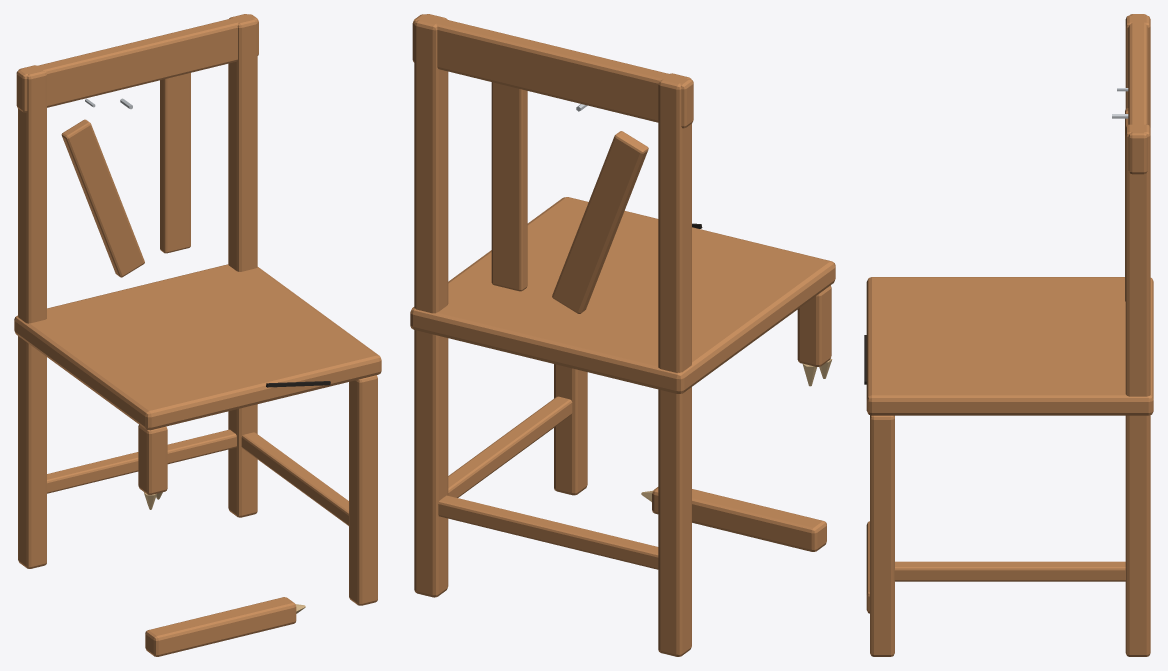
Rendered from hh_cat_broken_chair.glb.
3 renders of one model, left to right at view 1: azimuth 30°, elevation 25°; view 2: azimuth 150°, elevation 25°; view 3: azimuth 270°, elevation 25°, orthographic. The views are drawn at different scales.
Visible parts, largest first — view 1: seat, back_post, back_post.001, back_rail, leg, back_slat, back_slat.001, broken_leg, stretcher.001, stretcher, leg.001; view 2: seat, back_post.001, back_post, back_rail, back_slat, back_slat.001, stretcher.001, broken_leg, leg, stretcher, leg.001; view 3: seat, back_post.001, leg, stretcher, back_rail, back_post.
Boxes of the visible parts, bbox=[...] form: seat: bbox=[14, 264, 381, 430]; back_post: bbox=[18, 65, 46, 568]; back_post.001: bbox=[228, 14, 257, 517]; back_rail: bbox=[16, 14, 258, 112]; leg: bbox=[349, 375, 377, 605]; back_slat: bbox=[160, 73, 190, 253]; back_slat.001: bbox=[61, 119, 144, 277]; broken_leg: bbox=[145, 597, 296, 656]; stretcher.001: bbox=[47, 429, 236, 493]; stretcher: bbox=[241, 432, 348, 525]; leg.001: bbox=[138, 424, 167, 494]; seat: bbox=[410, 197, 835, 393]; back_post.001: bbox=[414, 14, 448, 597]; back_post: bbox=[658, 73, 691, 656]; back_rail: bbox=[412, 14, 693, 128]; back_slat: bbox=[491, 82, 527, 291]; back_slat.001: bbox=[552, 131, 648, 313]; stretcher.001: bbox=[438, 495, 658, 569]; broken_leg: bbox=[652, 487, 826, 551]; leg: bbox=[554, 364, 587, 495]; stretcher: bbox=[448, 396, 572, 497]; leg.001: bbox=[797, 285, 831, 366]; seat: bbox=[866, 277, 1153, 415]; back_post.001: bbox=[1125, 124, 1150, 656]; leg: bbox=[870, 415, 894, 656]; stretcher: bbox=[894, 561, 1125, 581]; back_rail: bbox=[1128, 14, 1147, 174]; back_post: bbox=[1125, 15, 1150, 127].
Bounding box in the file's own units: 0.45 × 0.9 × 0.45.
